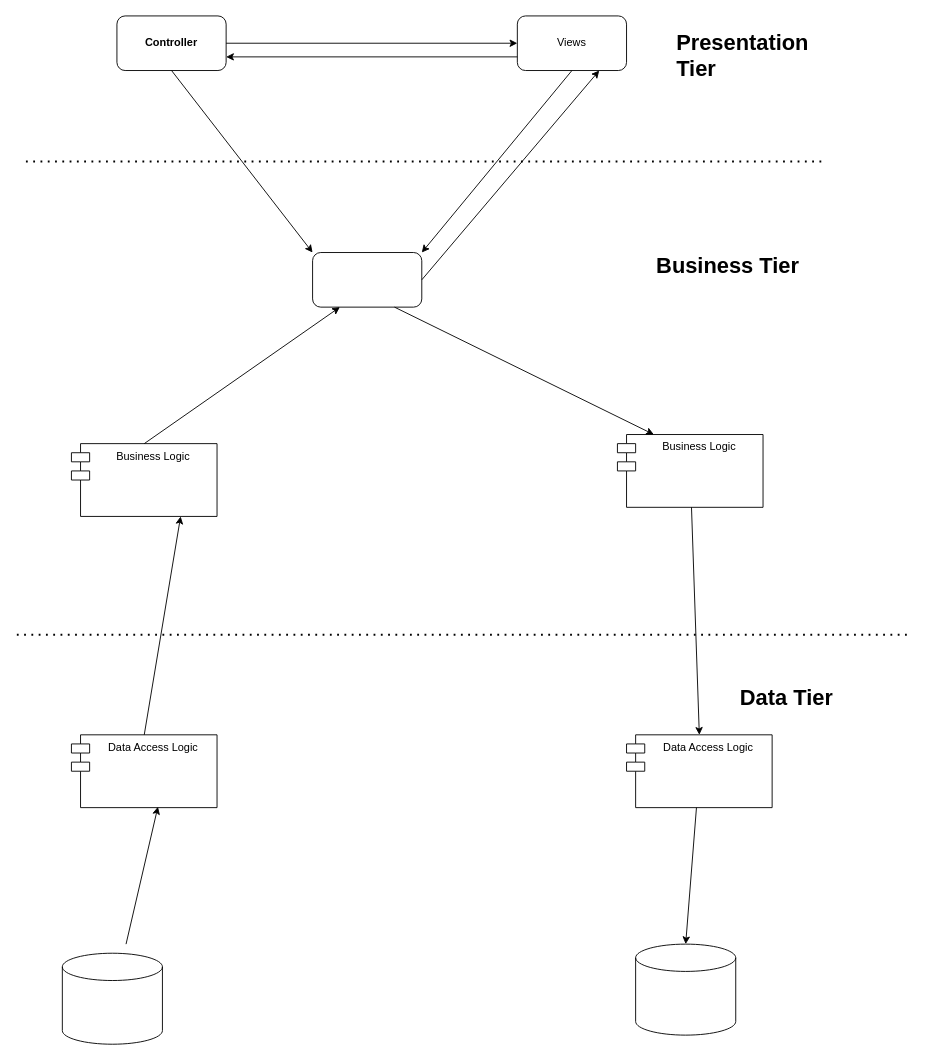
Some shapes in this 925 by 1060 pixel diagram are drawn without their labels. The shapes that lost their labels are listed below. From the top down, each one's box as (x1, y1, x2, y2) in pixels, then its label:
(312, 252, 422, 307): Model
(61, 952, 162, 1044): Reads
(635, 943, 736, 1035): Writes
